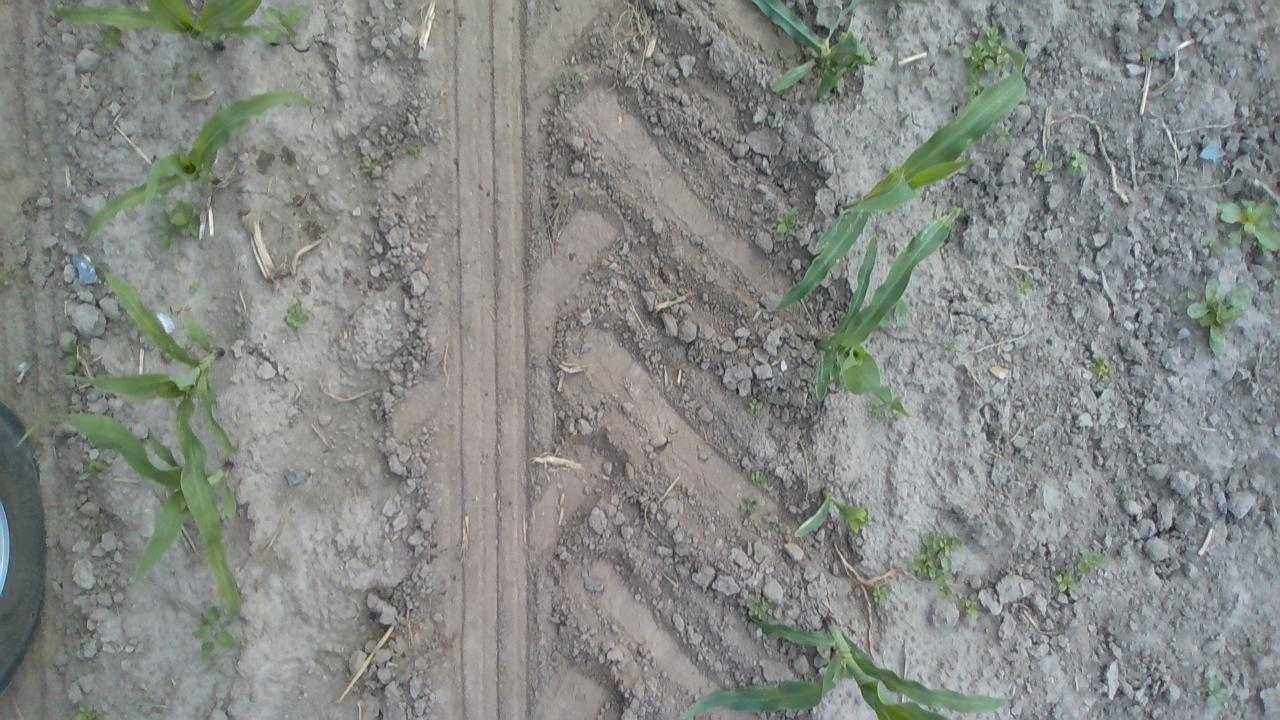Maize: (764, 42, 1026, 313), (80, 257, 240, 625), (12, 412, 237, 592), (83, 90, 320, 248), (676, 610, 1010, 720), (814, 206, 962, 417), (752, 0, 878, 103), (56, 1, 273, 56), (794, 487, 870, 539), (909, 0, 929, 7)
Weeds: (1176, 276, 1252, 359), (907, 531, 962, 597), (1214, 197, 1280, 252), (190, 605, 237, 660), (961, 24, 1011, 72), (153, 200, 197, 250), (260, 7, 306, 46), (1198, 676, 1228, 712), (1076, 548, 1106, 576), (774, 206, 800, 237), (746, 596, 774, 622), (285, 300, 309, 330), (868, 403, 898, 426), (964, 62, 982, 100), (1114, 476, 1140, 502), (1068, 150, 1091, 176), (1090, 356, 1110, 384), (102, 26, 124, 50), (66, 340, 80, 376), (1054, 572, 1078, 592), (1014, 273, 1034, 297), (739, 497, 760, 518), (1200, 238, 1224, 256), (1036, 156, 1054, 177), (564, 71, 585, 89), (86, 458, 112, 472), (942, 336, 958, 358), (750, 470, 769, 487), (962, 598, 978, 618), (74, 705, 95, 720), (872, 584, 888, 603), (994, 126, 1010, 145), (362, 156, 378, 174), (1242, 638, 1260, 654), (548, 82, 564, 100), (748, 398, 764, 414), (0, 270, 14, 288), (770, 46, 786, 61), (186, 71, 202, 84), (170, 63, 183, 76), (409, 145, 421, 159), (189, 280, 199, 296), (1142, 52, 1154, 64), (771, 520, 780, 532), (307, 207, 316, 217), (346, 585, 354, 596)
